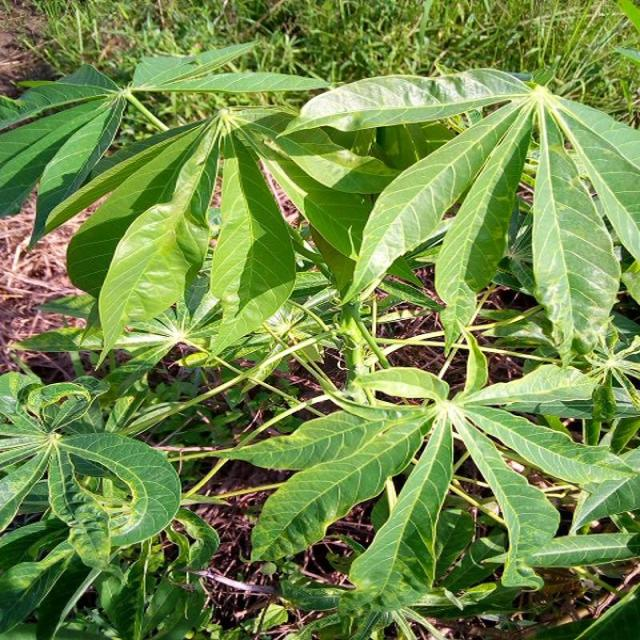cassava leaf: (1, 47, 638, 632), (207, 128, 296, 356)
